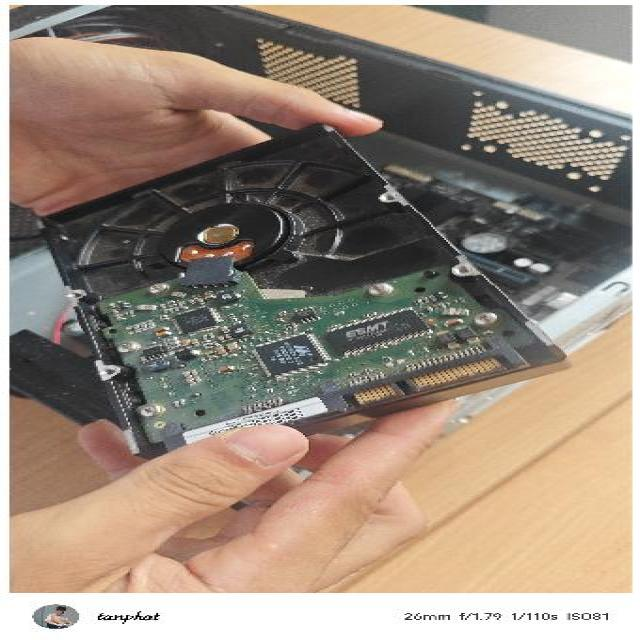DISK: (25, 116, 577, 462)
